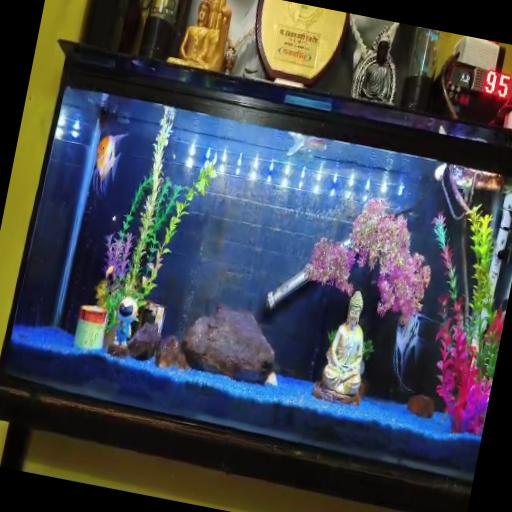Fish: (393, 314, 434, 391), (92, 134, 127, 197), (287, 133, 326, 157)
